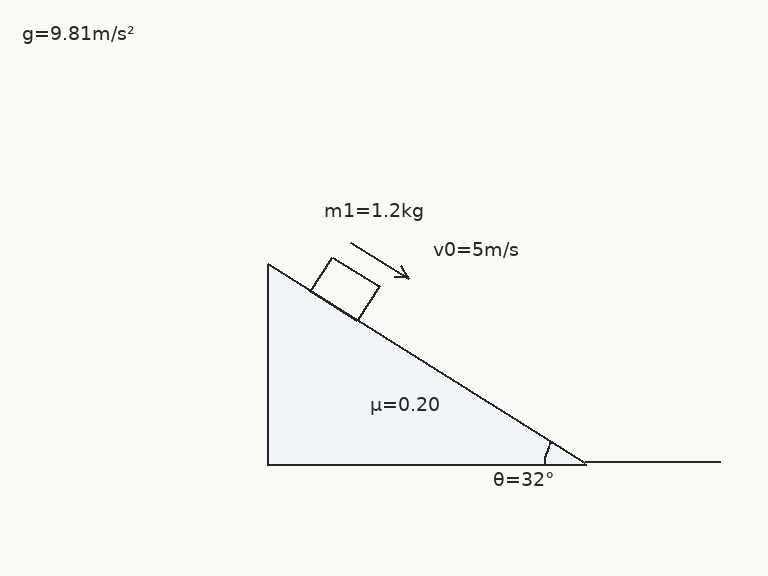block: (308, 255, 381, 323)
ramp: (265, 262, 587, 465)
